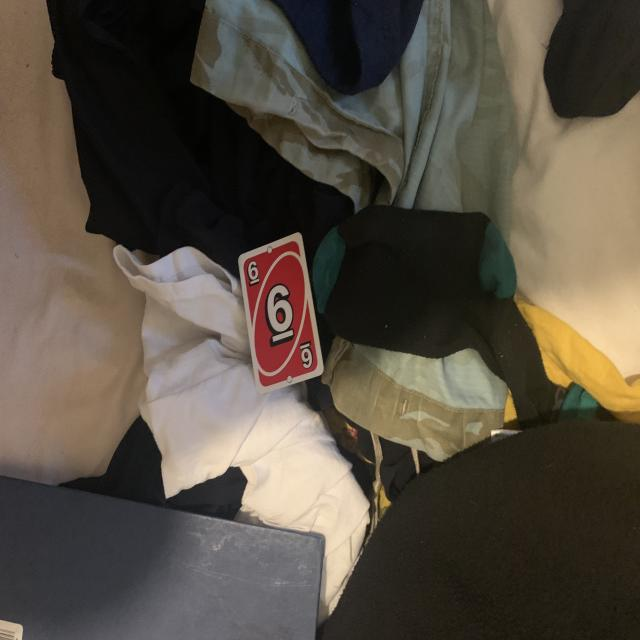lred-6: (243, 258, 263, 290)
